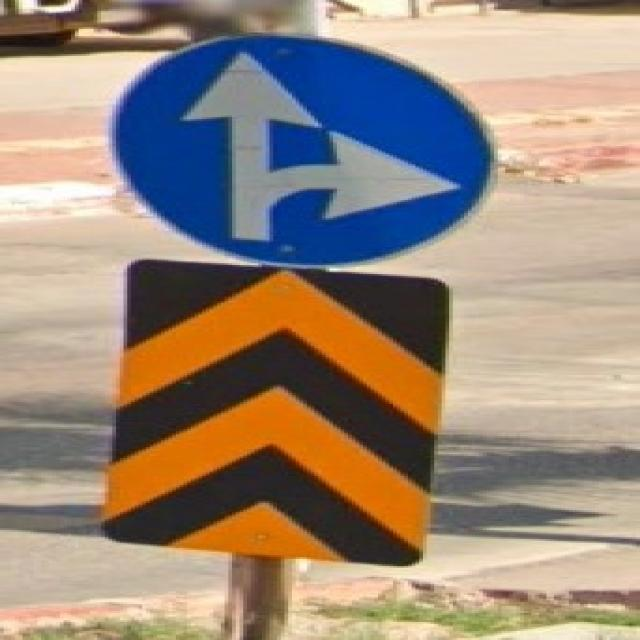Straight or Right: (119, 37, 486, 262)
